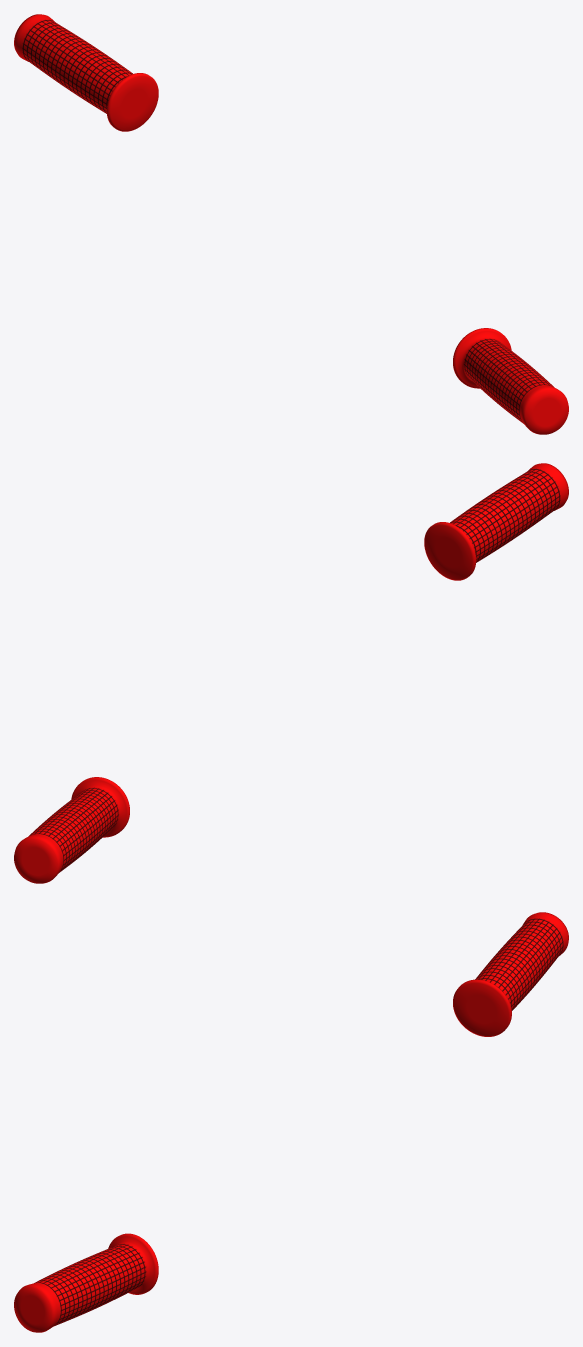
File: waffle.glb
3 renders of one model, top to bottom at view 1: azimuth 30°, elevation 25°; view 2: azimuth 150°, elevation 25°; view 3: azimuth 330°, elevation 25°, orthographic.
Parts seen in each view (by area): view 1: grip_waffle; view 2: grip_waffle; view 3: grip_waffle.
Part boxes in pixels (left/top/right/bottom): grip_waffle: left=14, top=14, right=568, bottom=434; grip_waffle: left=14, top=463, right=568, bottom=883; grip_waffle: left=14, top=912, right=568, bottom=1332.
Size of the model in its own units: 0.0566 by 0.0504 by 0.7717.
Materials: 1 (1 with a texture image).
